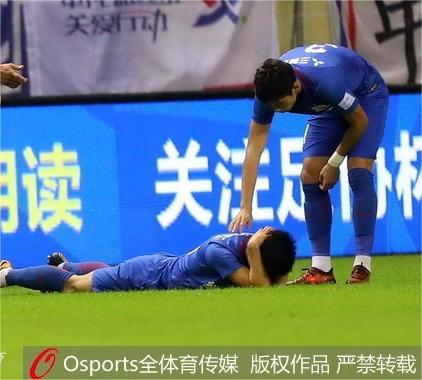bending: (236, 31, 384, 296)
down: (1, 218, 295, 295)
